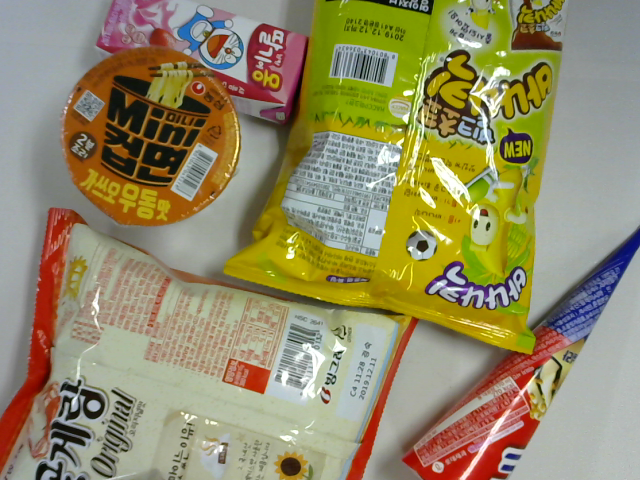Banana_Kick: (224, 1, 570, 352)
Crabrang: (1, 209, 417, 480)
Strawberry_E_Mong: (99, 1, 307, 125)
Udongmini: (61, 50, 240, 226)
World_Cone_Banila: (404, 225, 640, 480)
